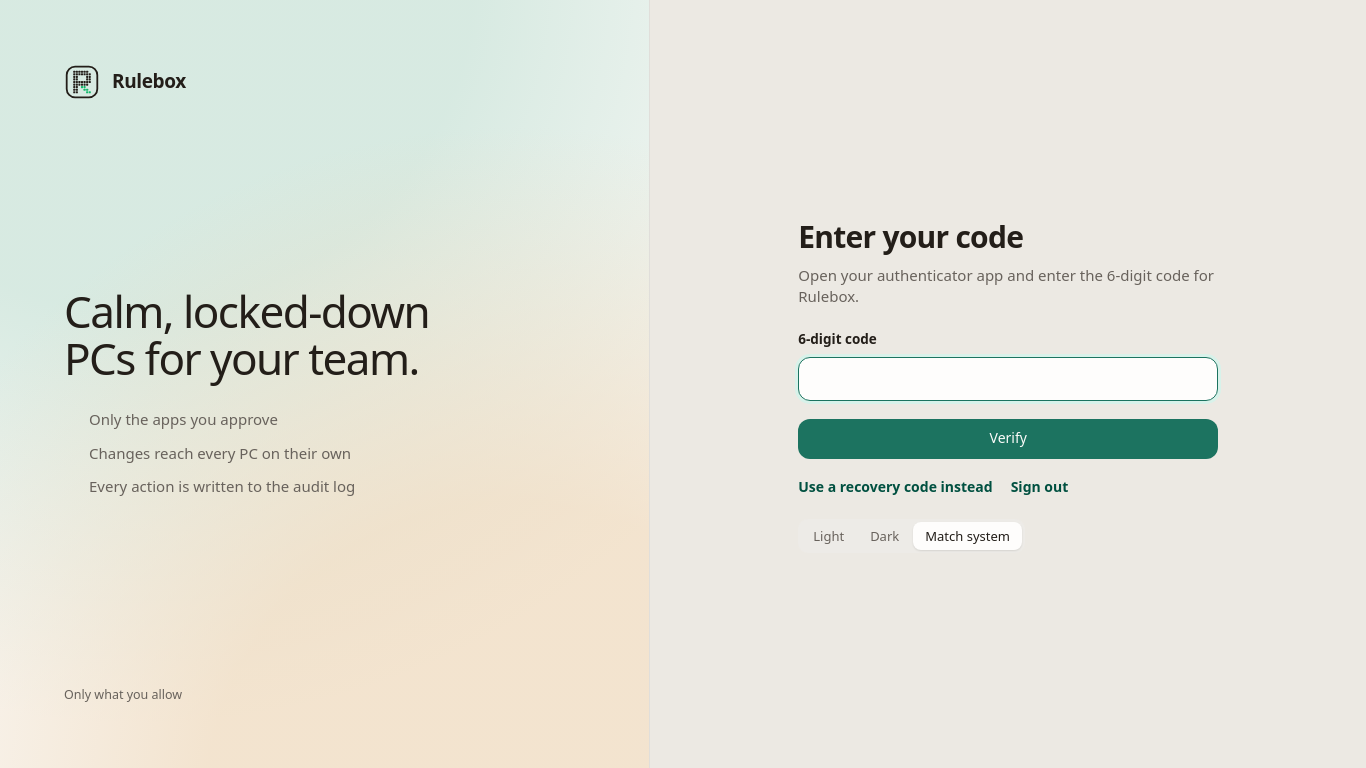
Test: Mfa › verify: a wrong code says so; a good one waits for the server, then goes to next
The image size is (1366, 768).
Type "000 000" into the field labelled "6-digit code" at (1008,379), box [798,357,1218,401]
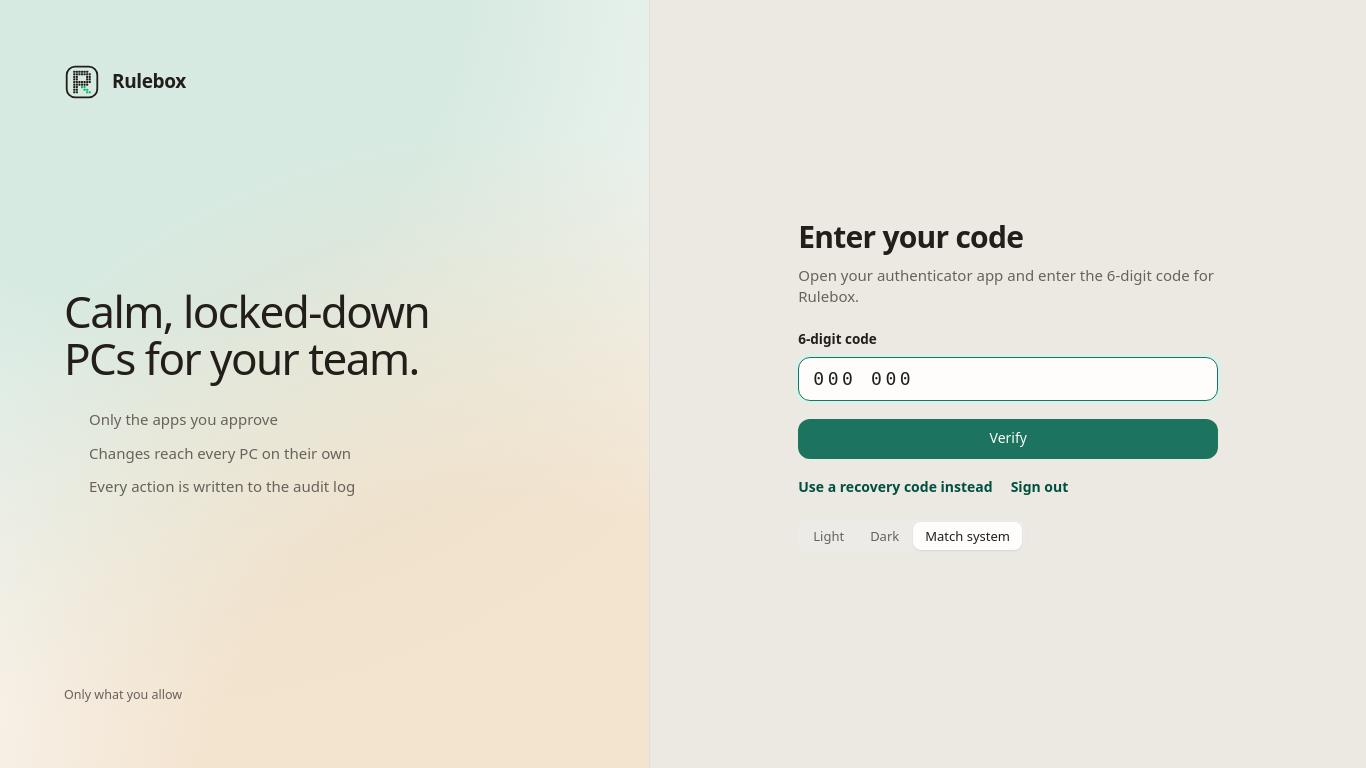
Click the button "Verify" at (1008,439), box [798,419,1218,459]
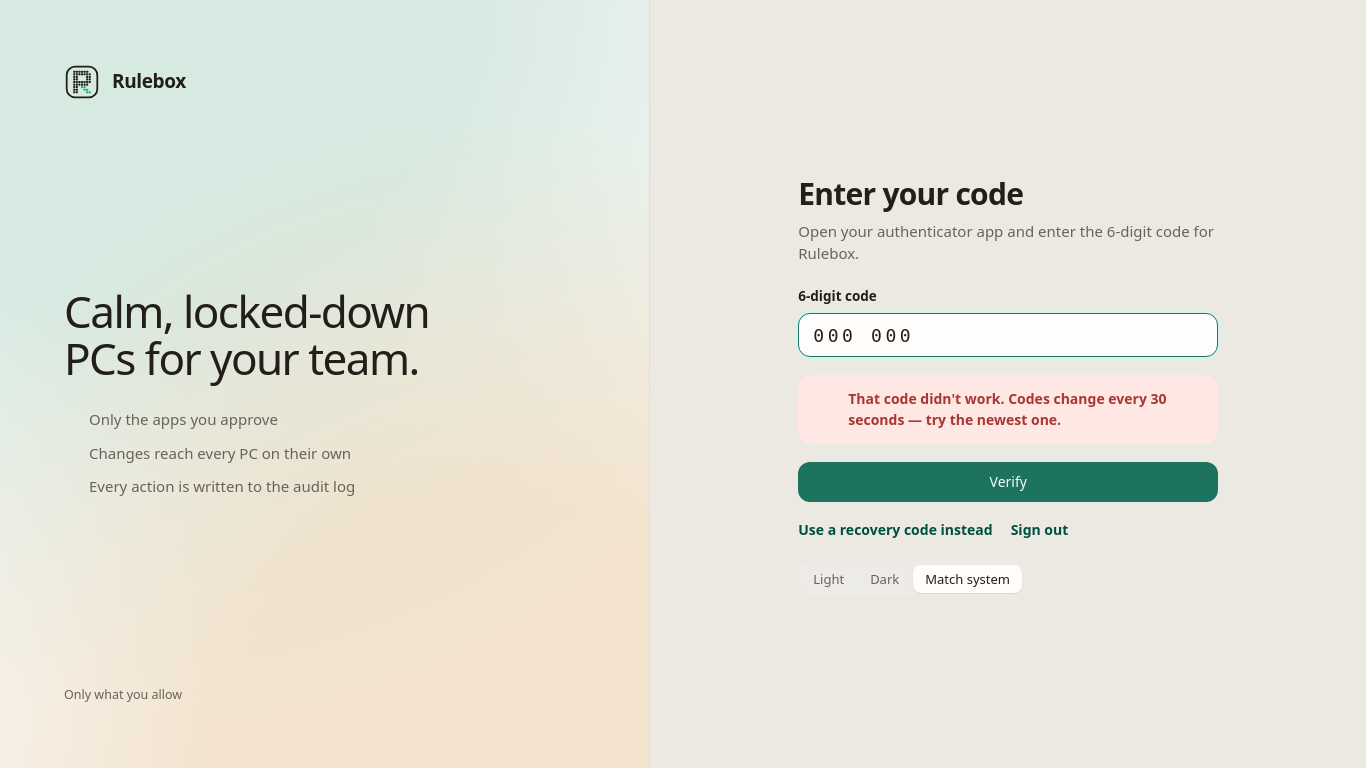
Now the text "That code didn't work. Codes change every 30 seconds — try the newest one." is shown, box [848,389,1202,430]
Click the button "Verify" at (1008,482), box [798,462,1218,502]
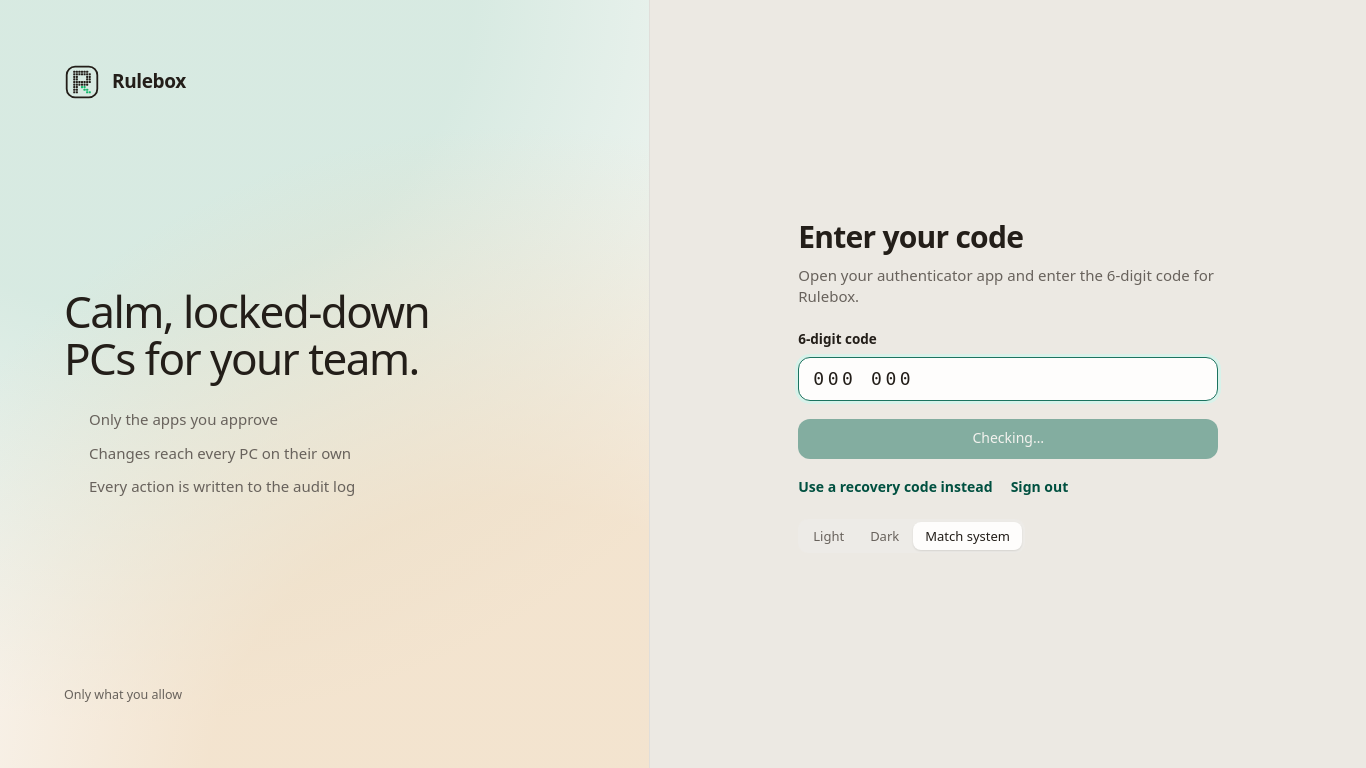
Now the button "Checking…" is disabled, box [798,419,1218,459]
